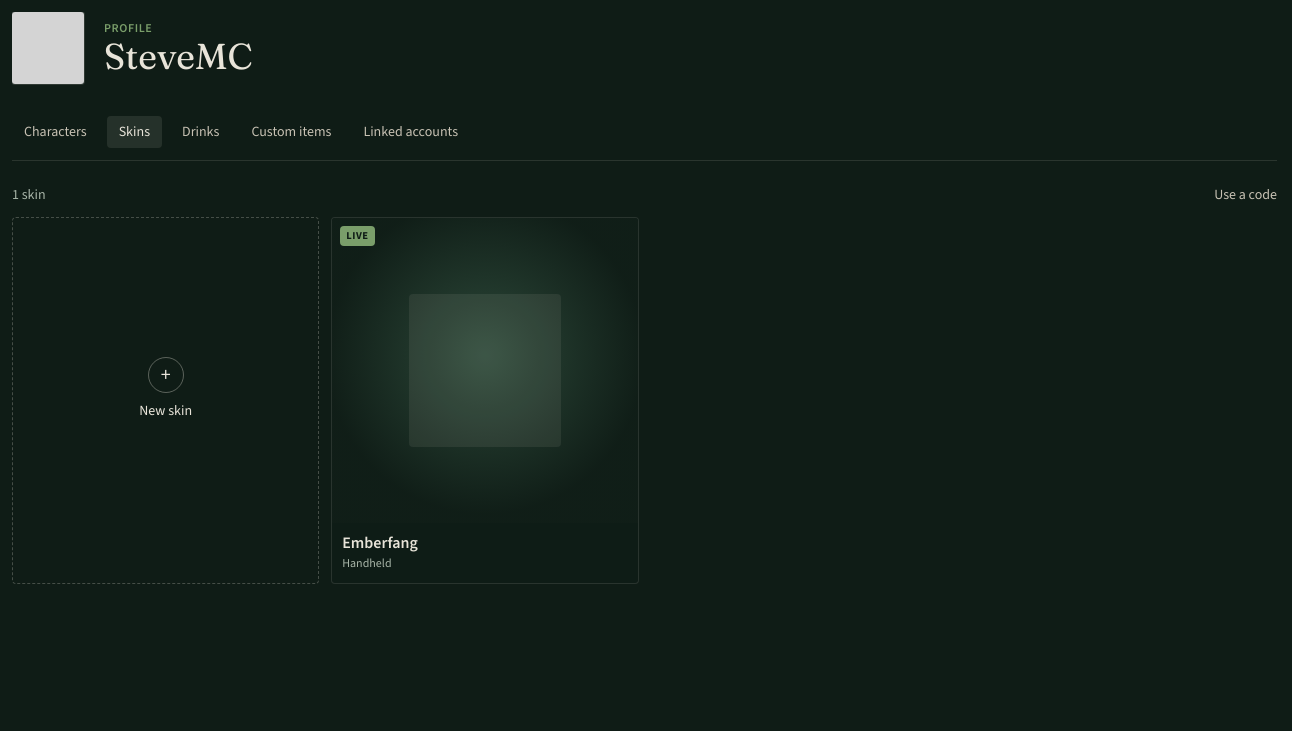
Scenario: lays skins out as a wardrobe and starts a new one without a code
The image size is (1292, 731).
Expected: the link "Live Emberfang Handheld" is shown, [331,217,639,584]
Click the button "+ New skin" at {"x": 166, "y": 401}, box [12,217,319,584]
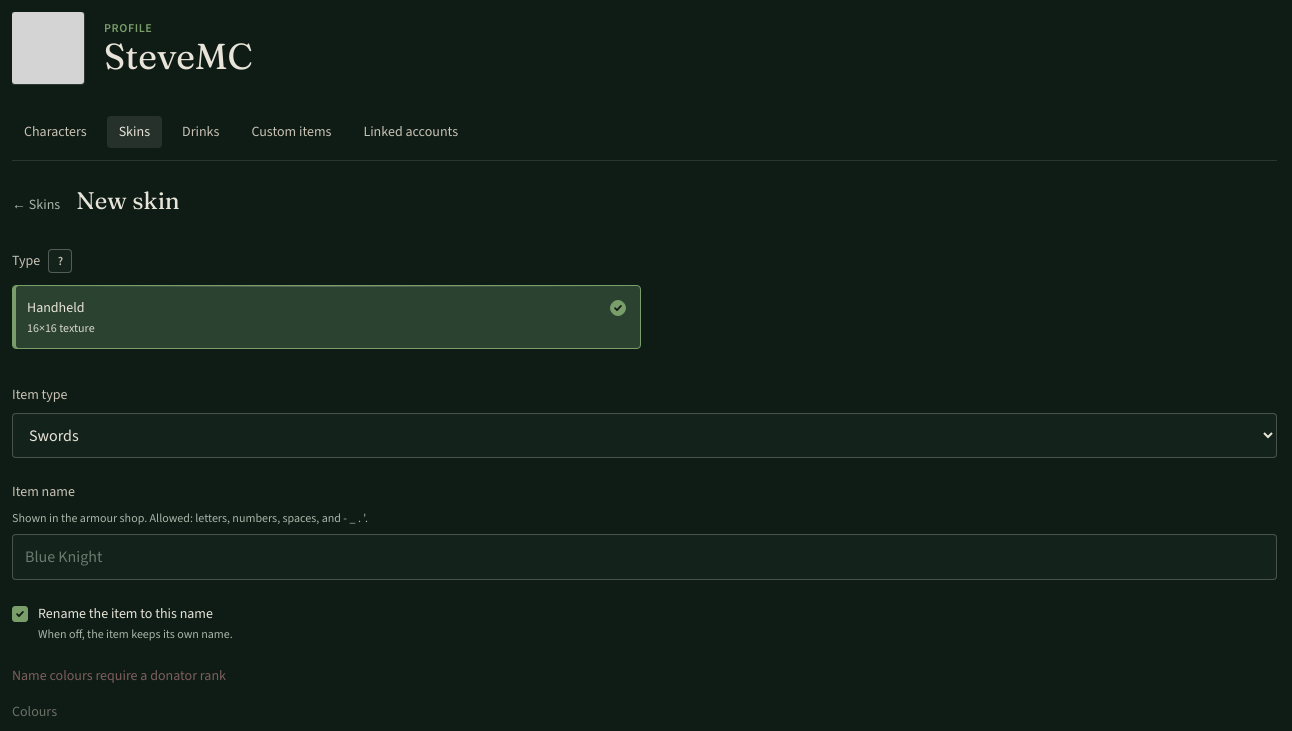
Expected: the heading "New skin" is shown, [76,185,180,217]
Click the link "← Skins" at {"x": 36, "y": 205}, box [12,195,60,215]
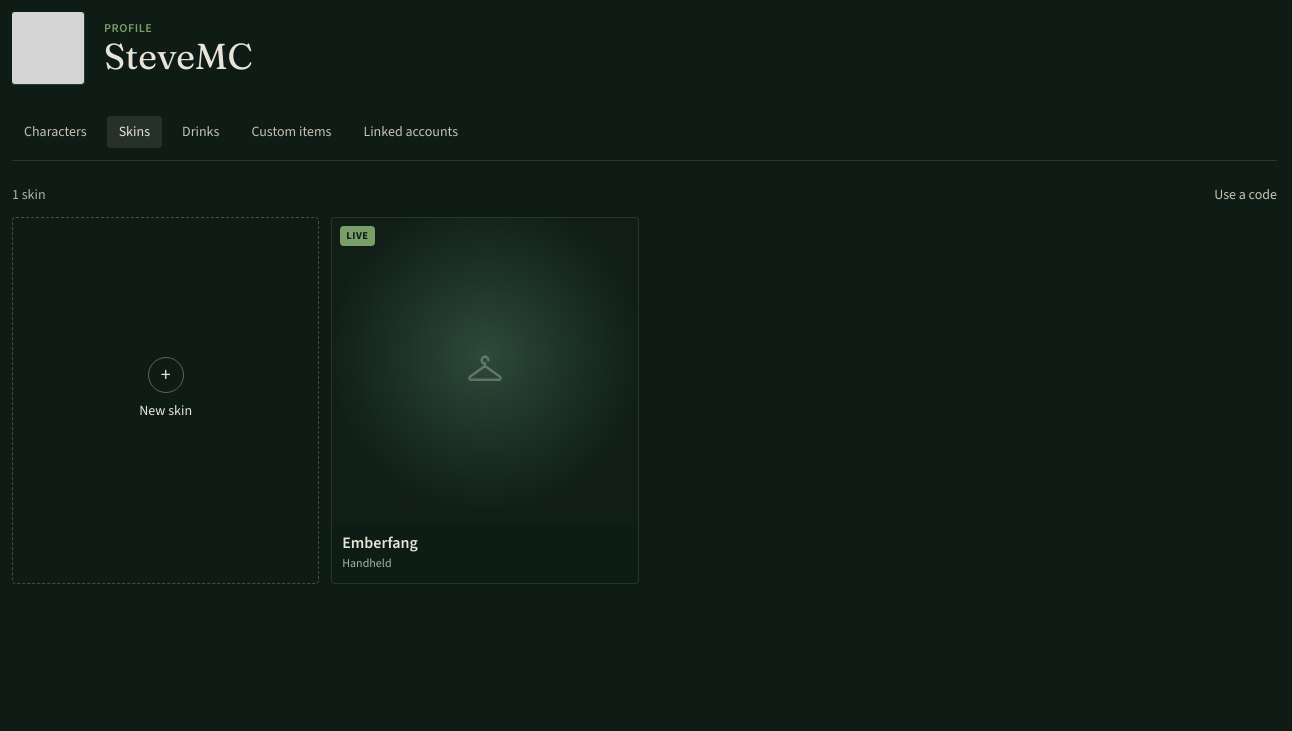
Expected: the link "Live Emberfang Handheld" is shown, [331,217,639,584]
